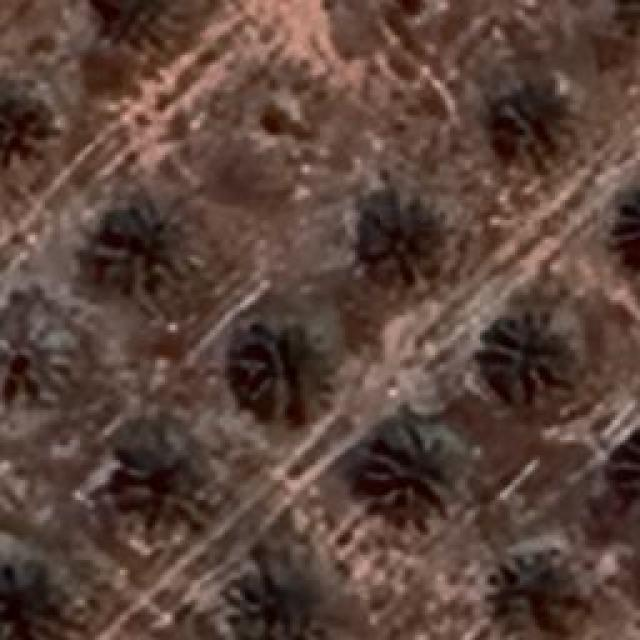PalmTree: (70, 97, 619, 470), (356, 182, 454, 292), (232, 320, 332, 415), (504, 530, 588, 640), (215, 557, 322, 640), (36, 96, 70, 357), (94, 205, 198, 288), (488, 70, 578, 165), (360, 427, 455, 515), (482, 312, 570, 398), (0, 555, 88, 640), (115, 439, 200, 519), (0, 78, 75, 168), (90, 0, 198, 47), (598, 187, 640, 283), (611, 0, 640, 38), (615, 0, 640, 35)
